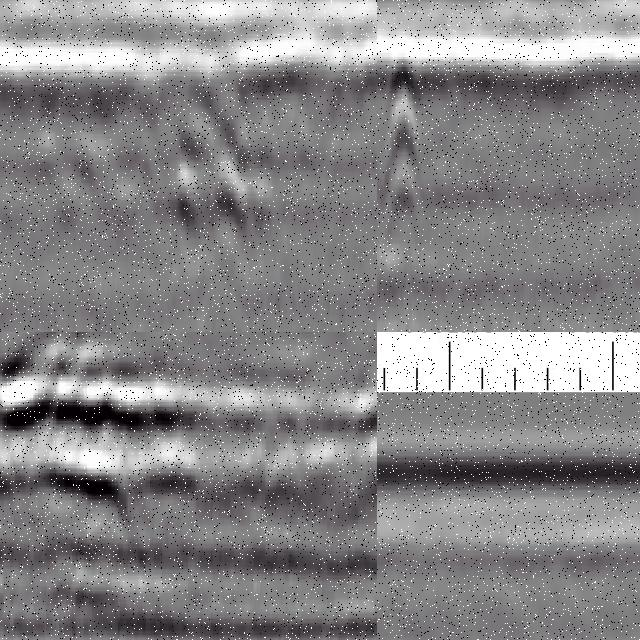crack: (381, 36, 418, 277)
loose: (45, 52, 285, 231), (1, 333, 205, 519)
